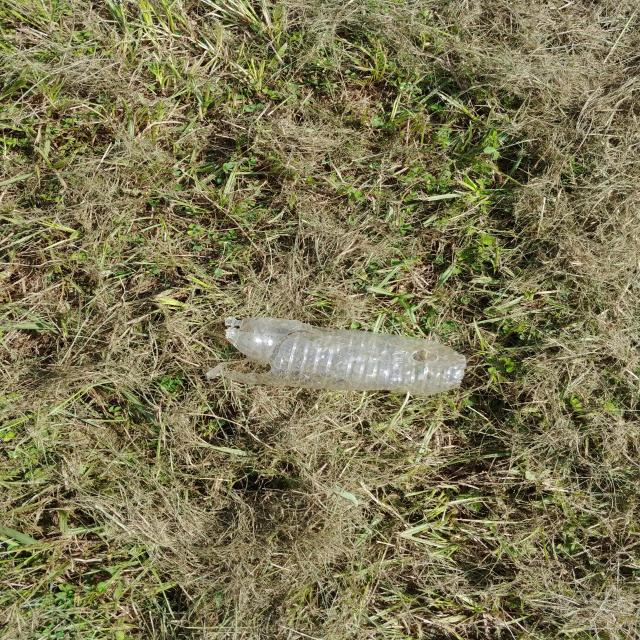litter: (193, 308, 472, 390)
